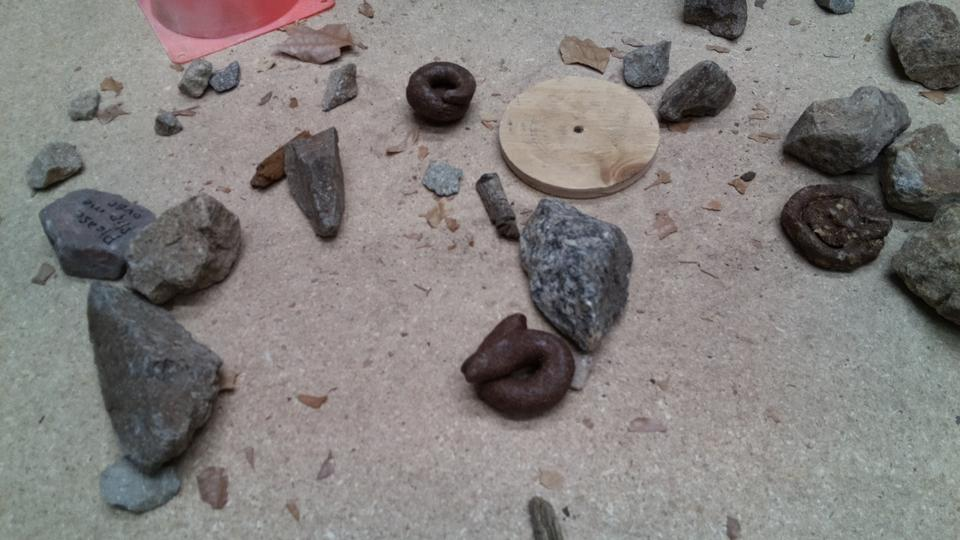poop: (459, 310, 577, 422), (783, 182, 895, 273), (405, 59, 479, 129)
